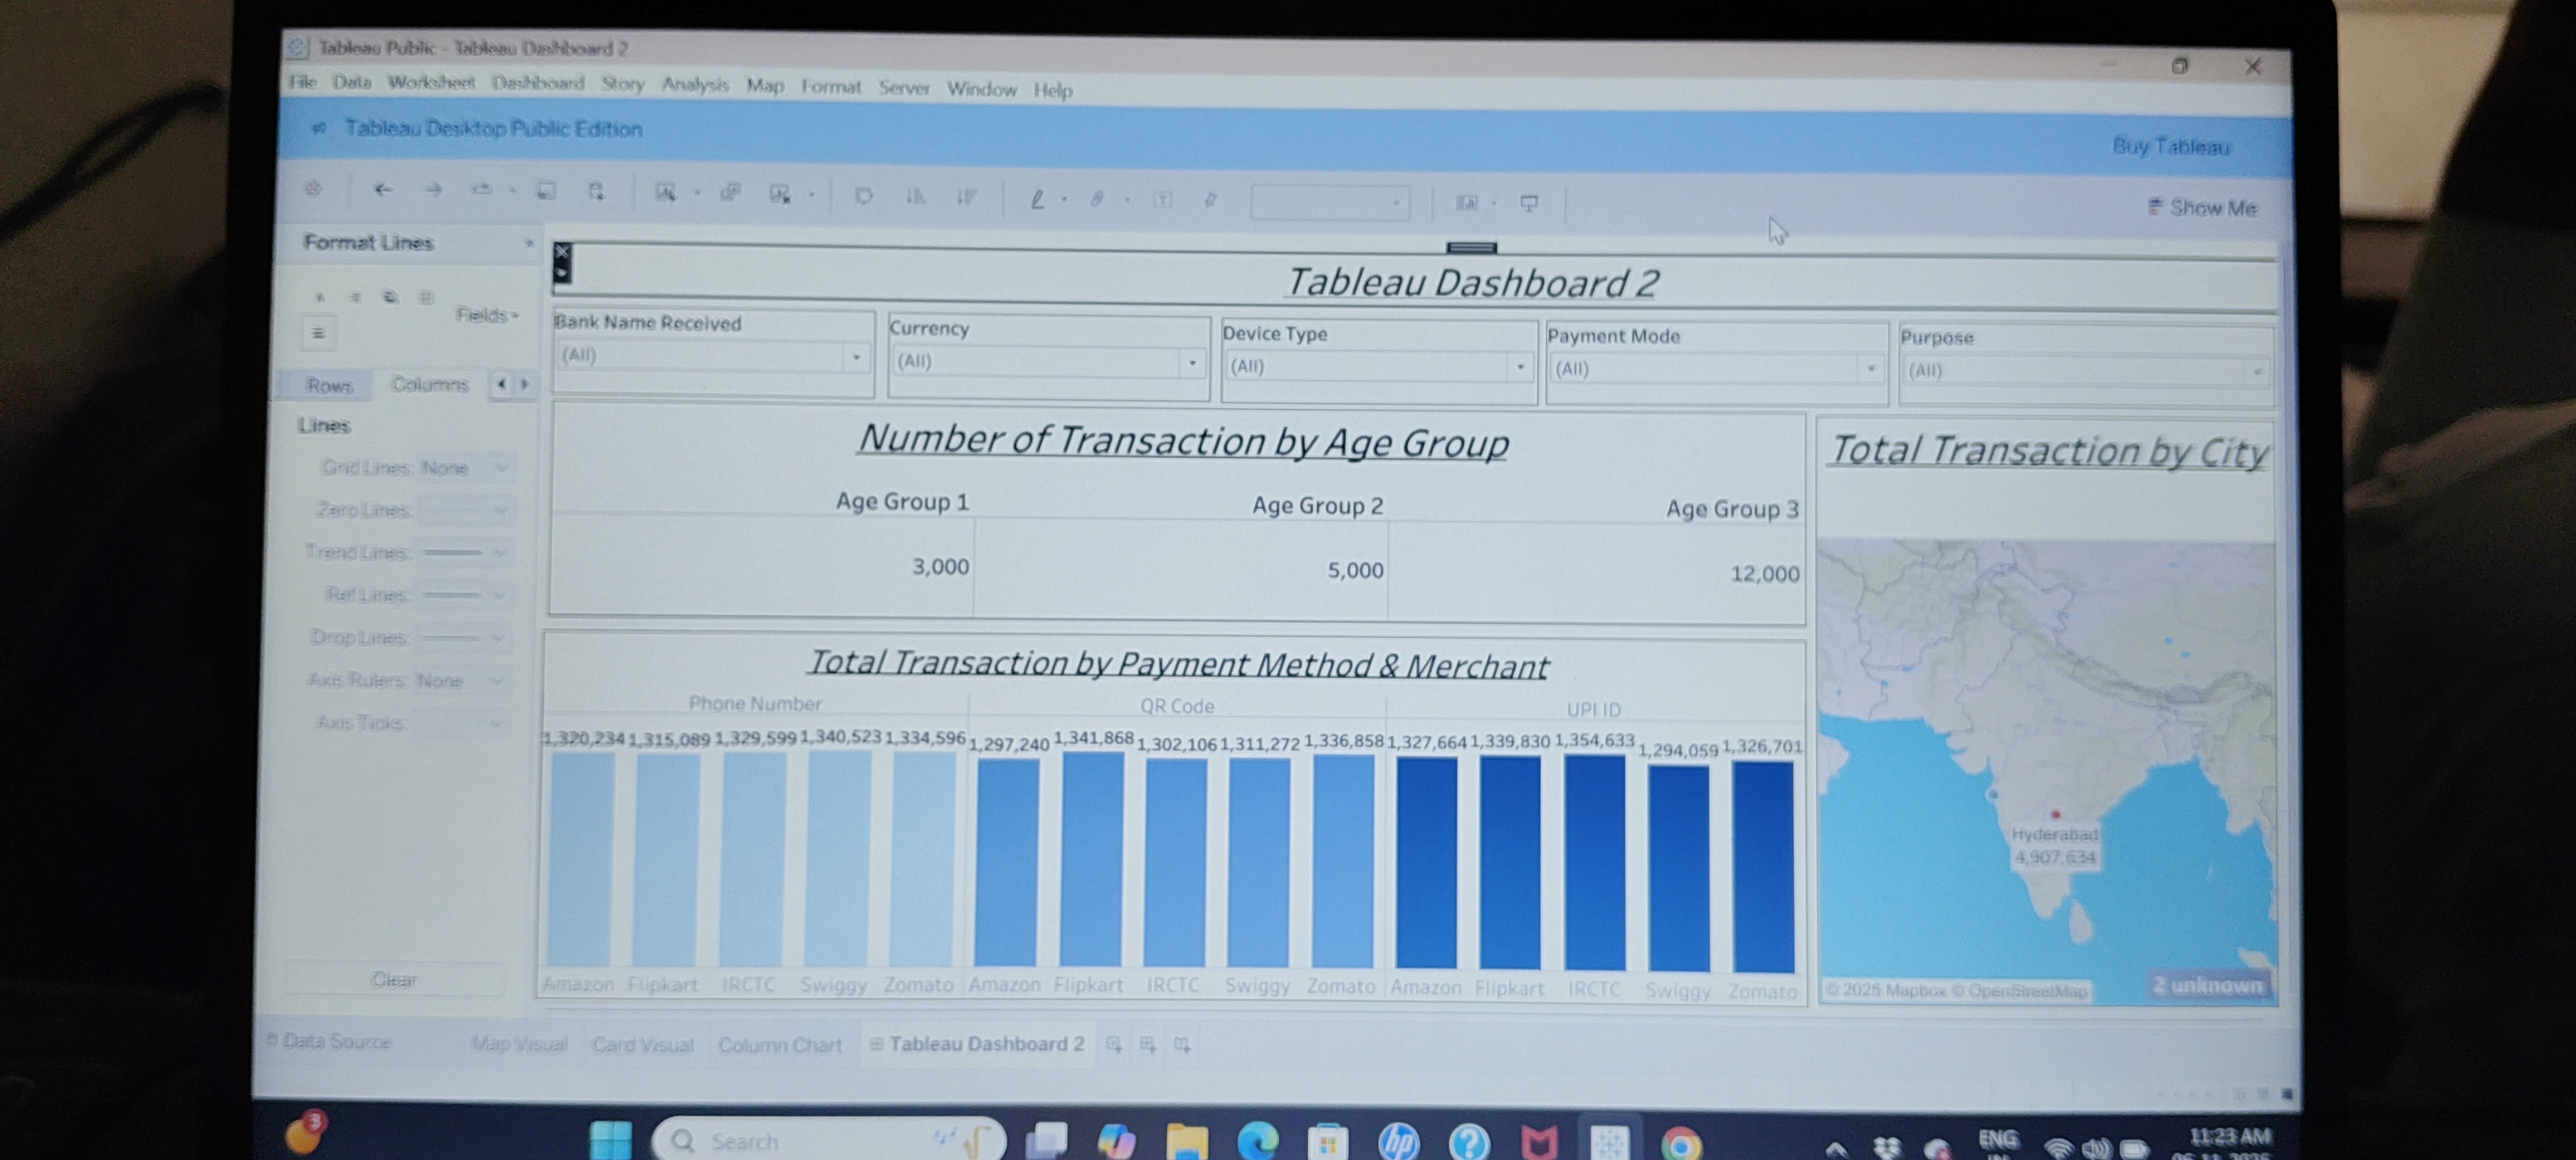

This screenshot's page, from the dashboard's own definition file:
{"tool":"tableau","page":{"name":"Tableau Dashboard 2","canvas":[1000,1000],"units":"permille","ordinal":0},"visuals":[{"type":"filter","title":"Column Chart","param":"[federated.0ak2t4d0q5u4pj11yu9ik1yvyof3].[none:BankNameReceived:nk]","box":[6.7,108.2,183.2,115.1]},{"type":"filter","title":"Column Chart","param":"[federated.0ak2t4d0q5u4pj11yu9ik1yvyof3].[none:Currency:nk]","box":[197.2,109.6,186.3,112.3]},{"type":"filter","title":"Column Chart","param":"[federated.0ak2t4d0q5u4pj11yu9ik1yvyof3].[none:DeviceType:nk]","box":[389.6,111,184.5,112.3]},{"type":"filter","title":"Column Chart","param":"[federated.0ak2t4d0q5u4pj11yu9ik1yvyof3].[none:PaymentMode:nk]","box":[578.3,111,197.2,111]},{"type":"filter","title":"Column Chart","param":"[federated.0ak2t4d0q5u4pj11yu9ik1yvyof3].[none:Purpose:nk]","box":[781,111,217.8,109.6]},{"type":"worksheet","title":"Card Visual","mark":"Automatic","cols":["Calculation_291889554113454080"],"box":[7.3,230.1,720.9,279.4]},{"type":"worksheet","title":"Map Visual","mark":"Automatic","box":[733.6,234.2,264.6,760.3]},{"type":"worksheet","title":"Column Chart","mark":"Automatic","rows":["Amount"],"cols":["PaymentMethod","MerchantName"],"box":[4.9,527.4,723.3,471.2]}]}

Visuals, with their boxes on the dashboard's canvas, which has no fixed pixel size, in thousandths of its width and height (x1, y1, x2, y2). These are canvas units, not pixel positions in the 2576x1160 screenshot, which may show the page scaled, cropped or inside an application window:
"Column Chart" filter: l=7, t=108, r=190, b=223
"Column Chart" filter: l=197, t=110, r=384, b=222
"Column Chart" filter: l=390, t=111, r=574, b=223
"Column Chart" filter: l=578, t=111, r=776, b=222
"Column Chart" filter: l=781, t=111, r=999, b=221
"Card Visual" worksheet: l=7, t=230, r=728, b=510
"Map Visual" worksheet: l=734, t=234, r=998, b=994
"Column Chart" worksheet: l=5, t=527, r=728, b=999
